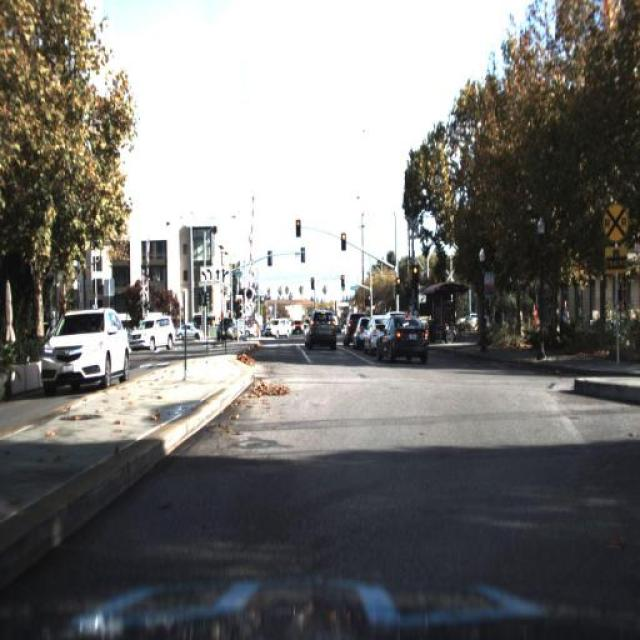car: (36, 305, 132, 396), (378, 312, 432, 368), (129, 302, 176, 358), (127, 309, 177, 353), (302, 313, 338, 352), (361, 308, 391, 354), (214, 315, 242, 344), (261, 310, 290, 338), (176, 320, 206, 340), (363, 316, 377, 356), (341, 308, 354, 349), (244, 314, 262, 338), (354, 316, 364, 348)
trafficLight: (526, 298, 542, 353), (558, 288, 573, 342), (557, 299, 571, 349), (528, 294, 540, 340)
trafficLight-RedLeft: (338, 226, 348, 253), (392, 271, 402, 298), (337, 266, 347, 292), (409, 263, 420, 285), (294, 219, 304, 241), (364, 288, 372, 308)
